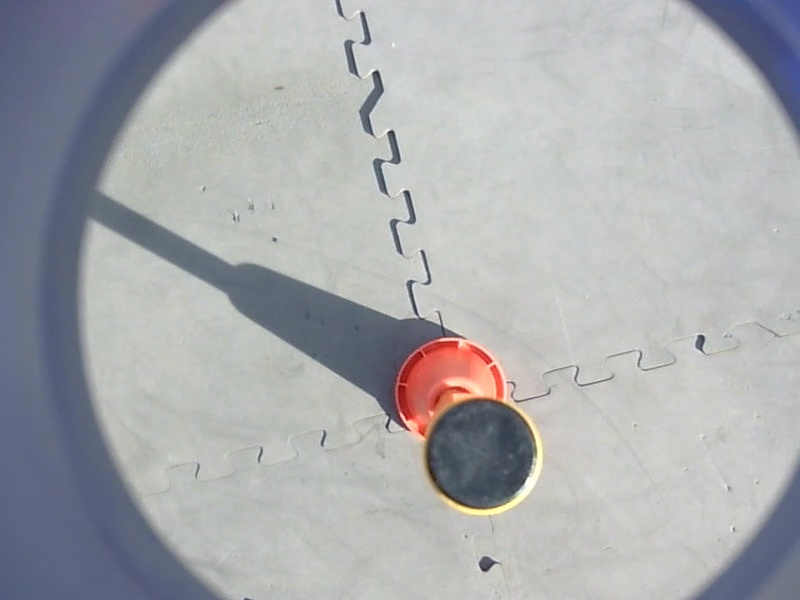tip: (418, 392, 549, 523)
